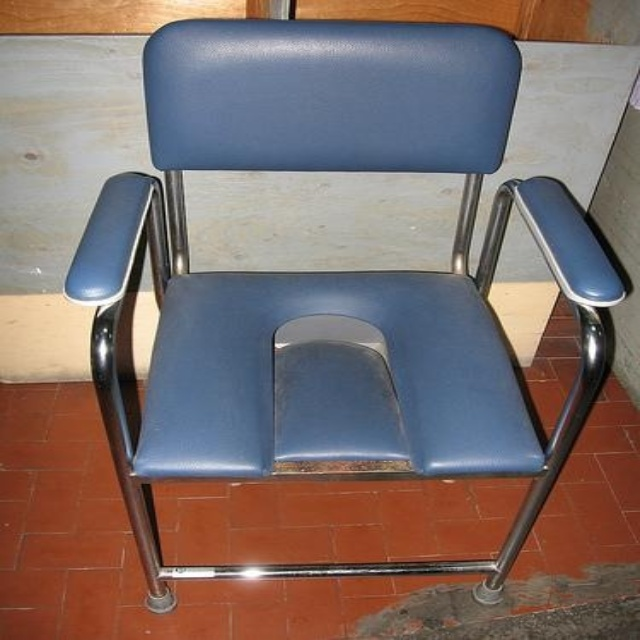obstacle: (65, 20, 623, 612)
